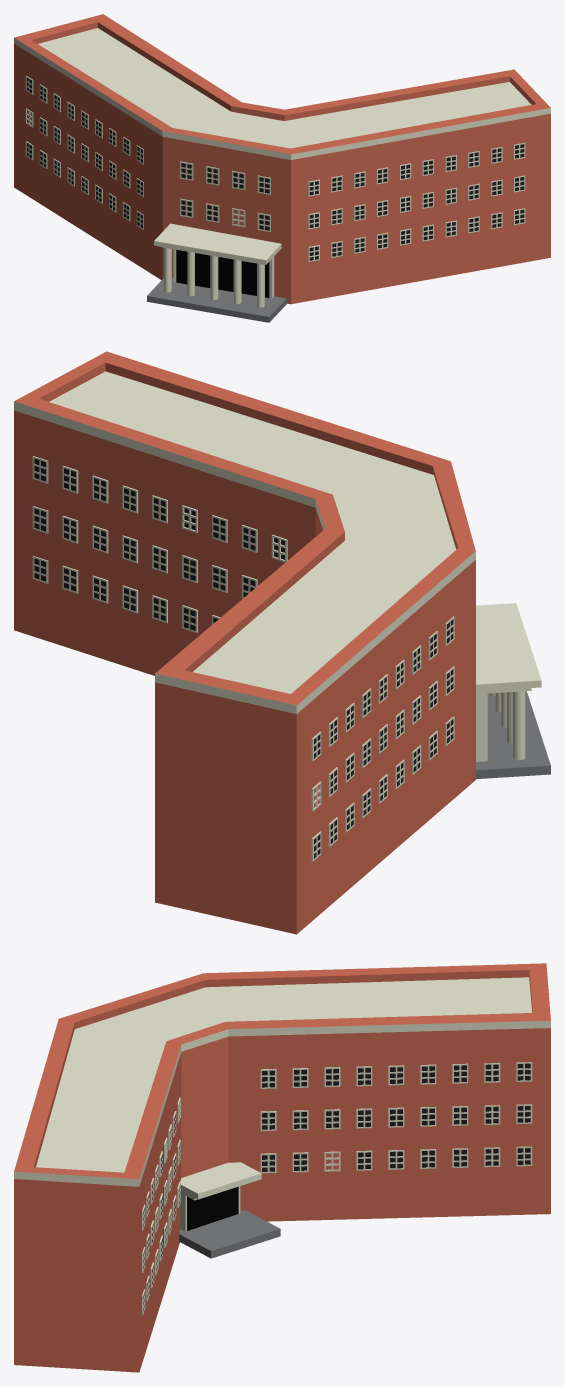
The model's file is Digital Building.fbx.
3 renders of one model, top to bottom at view 1: azimuth 30°, elevation 25°; view 2: azimuth 150°, elevation 25°; view 3: azimuth 270°, elevation 25°, orthographic. The views are drawn at different scales.
Visible parts, largest first — view 1: Windows_Chetuck Hall.011; view 2: Windows_Chetuck Hall.011; view 3: Windows_Chetuck Hall.011.
Boxes of the visible parts, bbox=[...] form: Windows_Chetuck Hall.011: bbox=[14, 14, 550, 322]; Windows_Chetuck Hall.011: bbox=[14, 351, 550, 934]; Windows_Chetuck Hall.011: bbox=[14, 963, 550, 1372].
Bounding box in the file's own units: 509 × 204 × 510.
